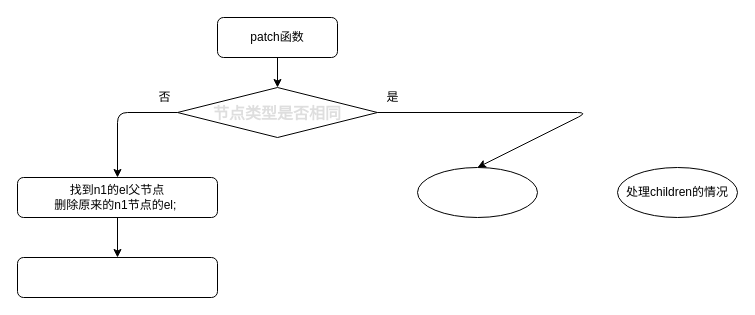
The diagram is 755 pixels wide and 315 high, and some of its shapes have lost their labels. Each missing label, with the centre of its shape:
处理props的情况: the point at 477,192
挂载n2节点到n1的el父节点上;: the point at 117,277
